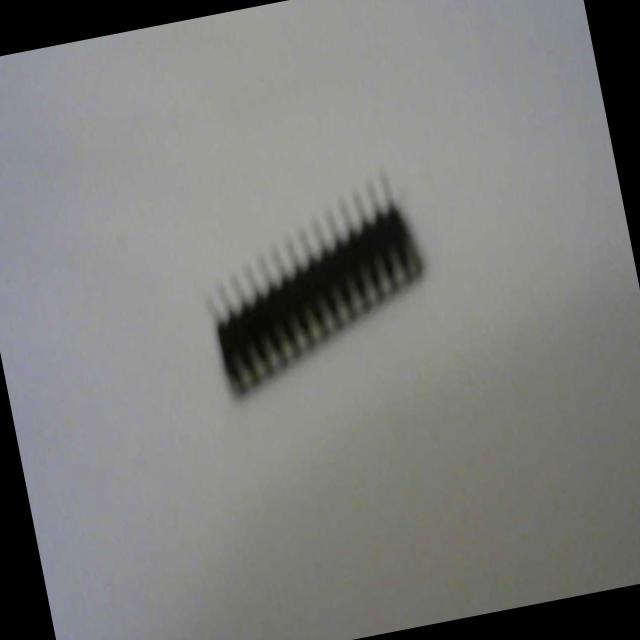atmega: (186, 160, 446, 406)
